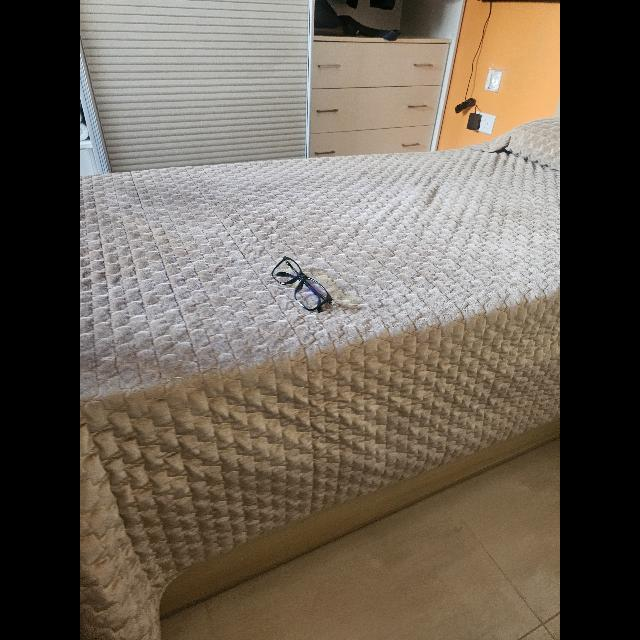glasses: (272, 256, 332, 312)
